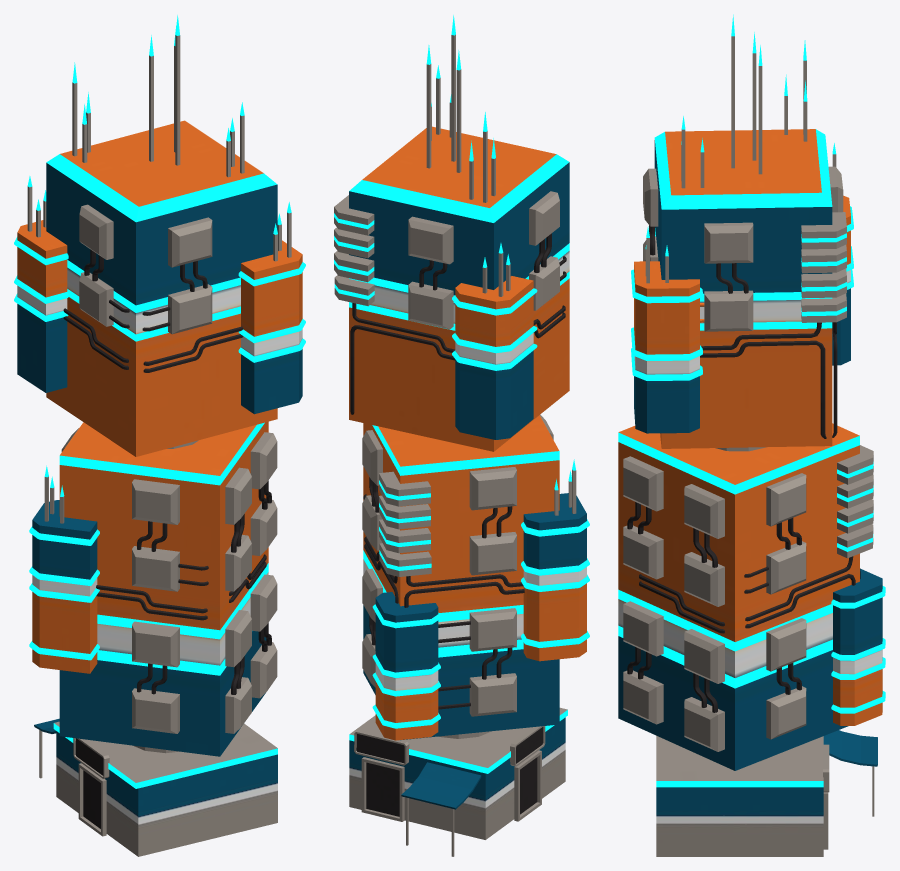
File: BuildingBig.fbx
The picture shows the model from 3 angles, left to right: view 1: azimuth 30°, elevation 25°; view 2: azimuth 150°, elevation 25°; view 3: azimuth 270°, elevation 25°; orthographic projection. The views are drawn at different scales.
Visible parts, largest first — view 1: predio3; view 2: predio3; view 3: predio3.
Part boxes in pixels (x1,y1,x2,y2): predio3: [14, 15, 305, 856]; predio3: [334, 15, 589, 856]; predio3: [618, 14, 885, 856].
Bounding box in the file's own units: 372 × 1221 × 364.
